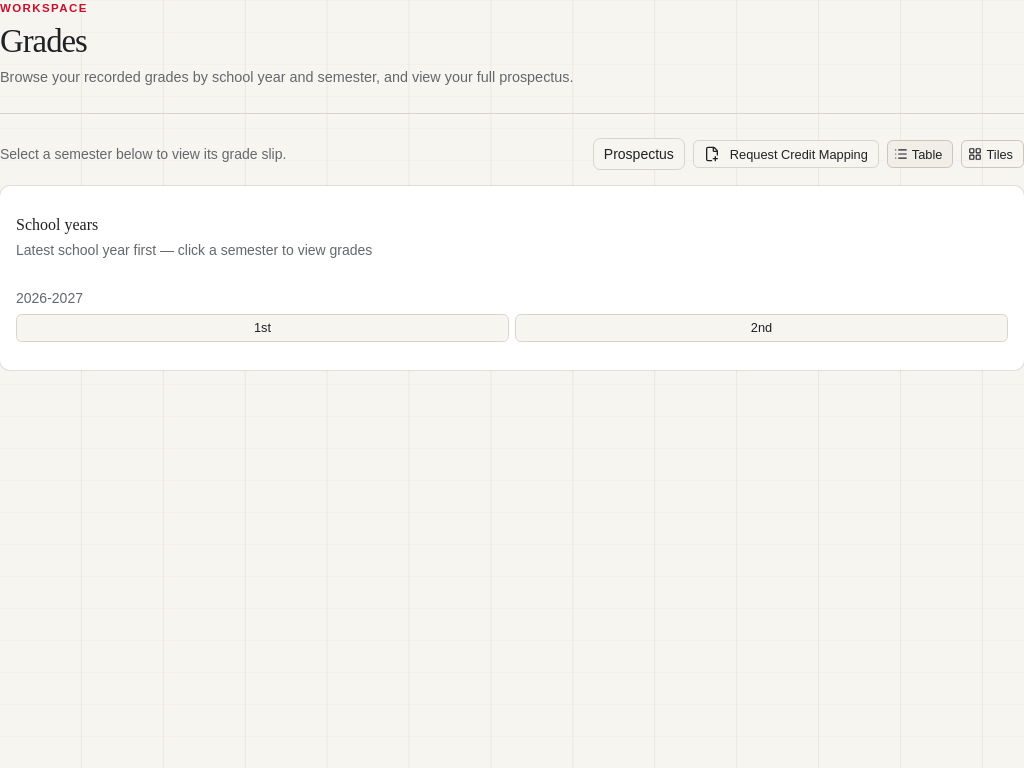
StudentGradesWorkspace › shows semester buttons and opens the grade slip in a modal when clicked
Expected: the button "1st" is shown, [16,314,509,342]
Expected: the text "CS201" is not shown
# Click the 2nd semester button to open the grade slip modal
Click the button "2nd" at (762, 328), box [515,314,1008,342]
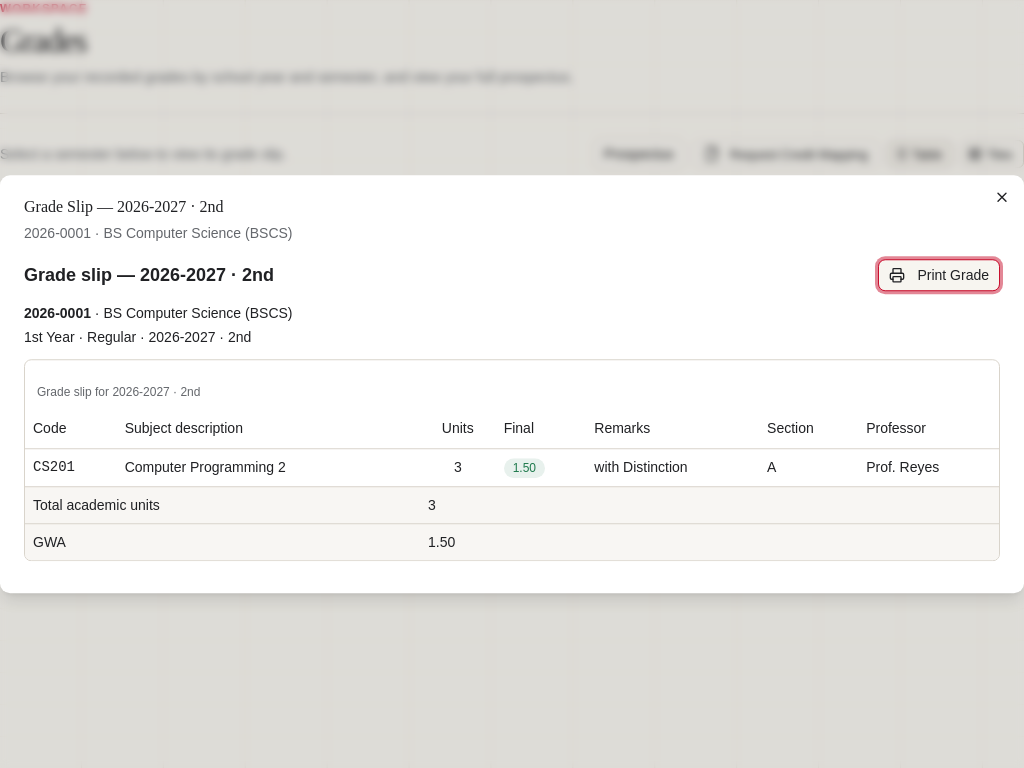
Expected: the text "CS201" is shown, [25,448,117,486]
Expected: the icon "1.50" is shown, [504,458,545,478]
